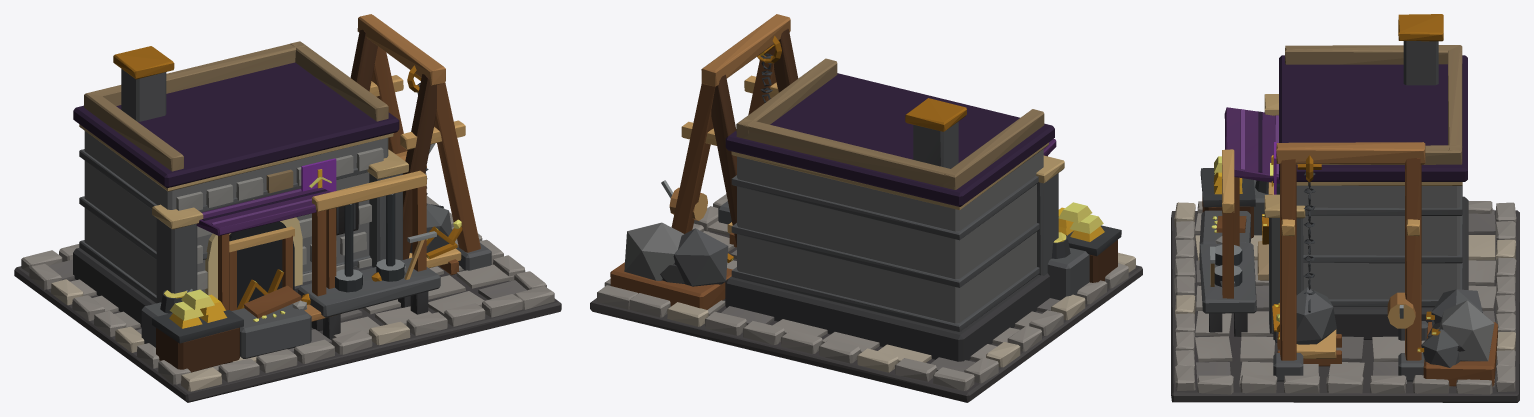
3 views of the same model, side by side, from view 1: azimuth 30°, elevation 25°; view 2: azimuth 150°, elevation 25°; view 3: azimuth 270°, elevation 25° (orthographic).
Visible parts, largest first — view 1: WK_CityGoldworks_LOD0_High; view 2: WK_CityGoldworks_LOD0_High; view 3: WK_CityGoldworks_LOD0_High.
Part boxes in pixels (left/top/right/bottom): WK_CityGoldworks_LOD0_High: left=14, top=14, right=561, bottom=402; WK_CityGoldworks_LOD0_High: left=590, top=14, right=1142, bottom=402; WK_CityGoldworks_LOD0_High: left=1171, top=14, right=1519, bottom=402.
Bounding box in the file's own units: 9 × 5.39 × 7.2.
